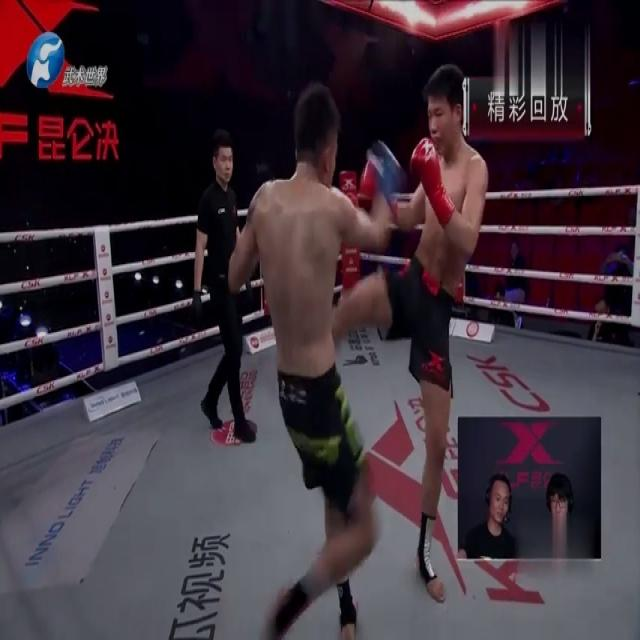fight: (239, 57, 486, 628)
non-fight: (190, 128, 253, 447)
